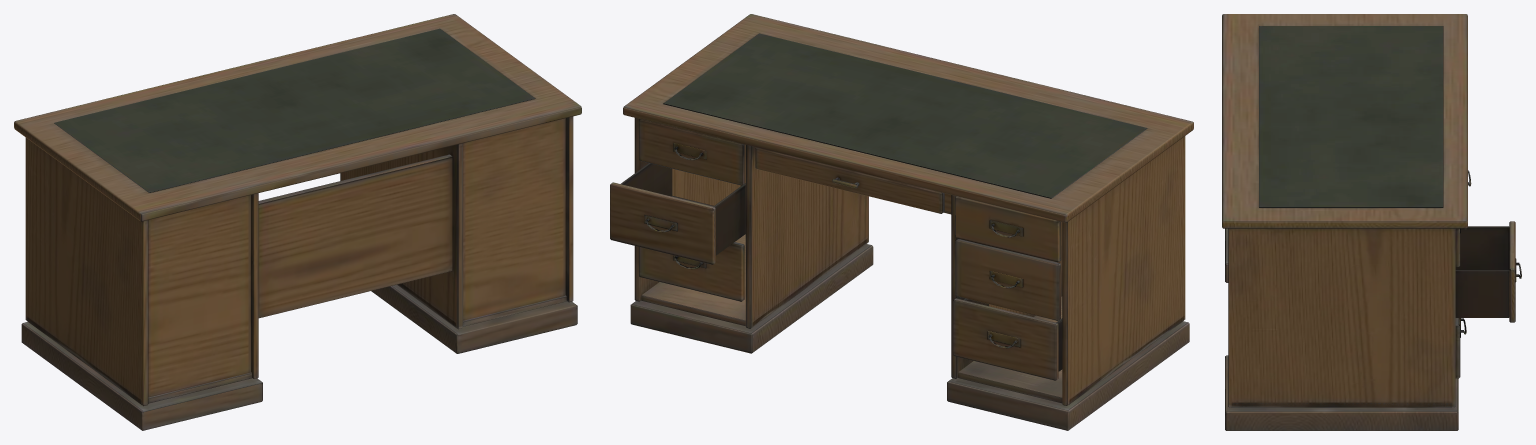
Rendered from furniture_desk.glb.
3 views of the same model, side by side, from view 1: azimuth 30°, elevation 25°; view 2: azimuth 150°, elevation 25°; view 3: azimuth 270°, elevation 25° (orthographic). The views are drawn at different scales.
Visible parts, largest first — view 1: furniture_desk; view 2: furniture_desk; view 3: furniture_desk.
Boxes of the visible parts, box(x1,y1,x2,y2) form: furniture_desk: box(14, 14, 581, 430); furniture_desk: box(610, 14, 1193, 430); furniture_desk: box(1222, 14, 1521, 430).
Size of the model in its own units: 1.6 by 0.7621 by 0.9758.
1 material, 1 textured.
